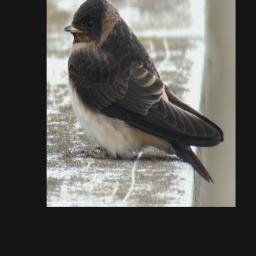Swallow: (62, 0, 225, 186)
